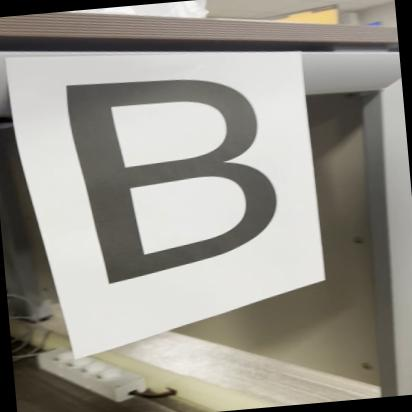seat: (45, 50, 312, 316)
